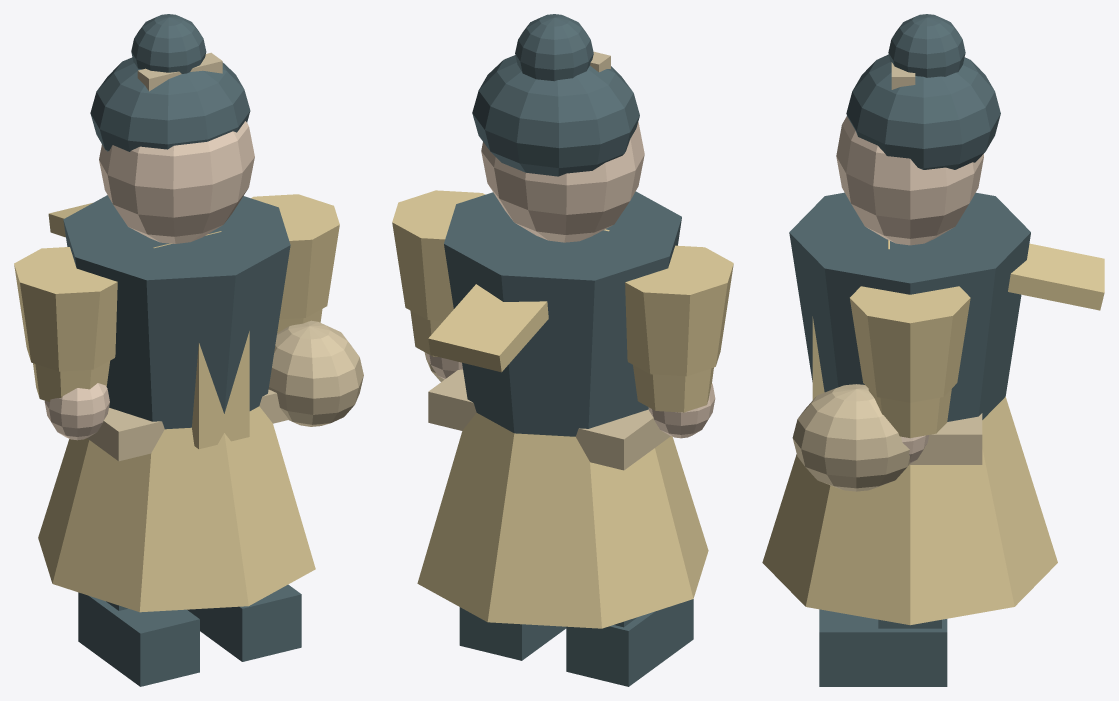
Rendered from fist.glb.
3 views of the same model, side by side, from view 1: azimuth 30°, elevation 25°; view 2: azimuth 150°, elevation 25°; view 3: azimuth 270°, elevation 25° (orthographic). The views are drawn at different scales.
Visible parts, largest first — view 1: 下摆.002, 衣襟.002, Head.002, Hair.002, 衣袖.004, 靴.004, 拳套, 衣袖.005, 靴.005, 前襟.002, 发髻.002, 腰带.002 (+4 smaller); view 2: 下摆.002, 衣襟.002, Hair.002, 衣袖.004, Head.002, 靴.004, 衣袖.005, Scarf.002, 腰带.002, 发髻.002, 靴.005, 小臂.004 (+3 smaller); view 3: 下摆.002, 衣襟.002, Hair.002, 衣袖.005, Head.002, 拳套, 靴.005, Scarf.002, 发髻.002, 腰带.002, 小臂.005, 前襟.002.
Boxes of the visible parts, x1,y1,x2,y2 form: 下摆.002: (38,406,315,612); 衣襟.002: (63,195,290,429); Head.002: (99,121,254,243); Hair.002: (90,57,250,151); 衣袖.004: (14,247,117,371); 靴.004: (78,592,199,686); 拳套: (268,320,363,426); 衣袖.005: (251,194,339,319); 靴.005: (187,584,301,661); 前襟.002: (192,331,249,449); 发髻.002: (131,14,206,73); 腰带.002: (87,389,288,461); 下摆.002: (417,413,708,628); 衣襟.002: (444,191,681,436); Hair.002: (472,55,639,176); 衣袖.004: (625,245,733,376); Head.002: (481,122,644,242); 靴.004: (566,599,693,686); 衣袖.005: (392,190,484,320); Scarf.002: (428,229,609,372); 腰带.002: (428,369,670,470); 发髻.002: (515,14,593,81); 靴.005: (459,607,566,660); 小臂.004: (633,365,713,412); 下摆.002: (762,397,1057,625); 衣襟.002: (789,192,1030,421); Hair.002: (846,54,1000,169); 衣袖.005: (850,286,970,402); Head.002: (836,116,983,245); 拳套: (792,384,910,491); 靴.005: (819,609,947,686); Scarf.002: (888,240,1104,310); 发髻.002: (888,14,965,77); 腰带.002: (909,413,982,464); 小臂.005: (868,389,951,438); 前襟.002: (812,316,824,399).
Size of the model in its own units: 1.11 by 2.07 by 1.02.
